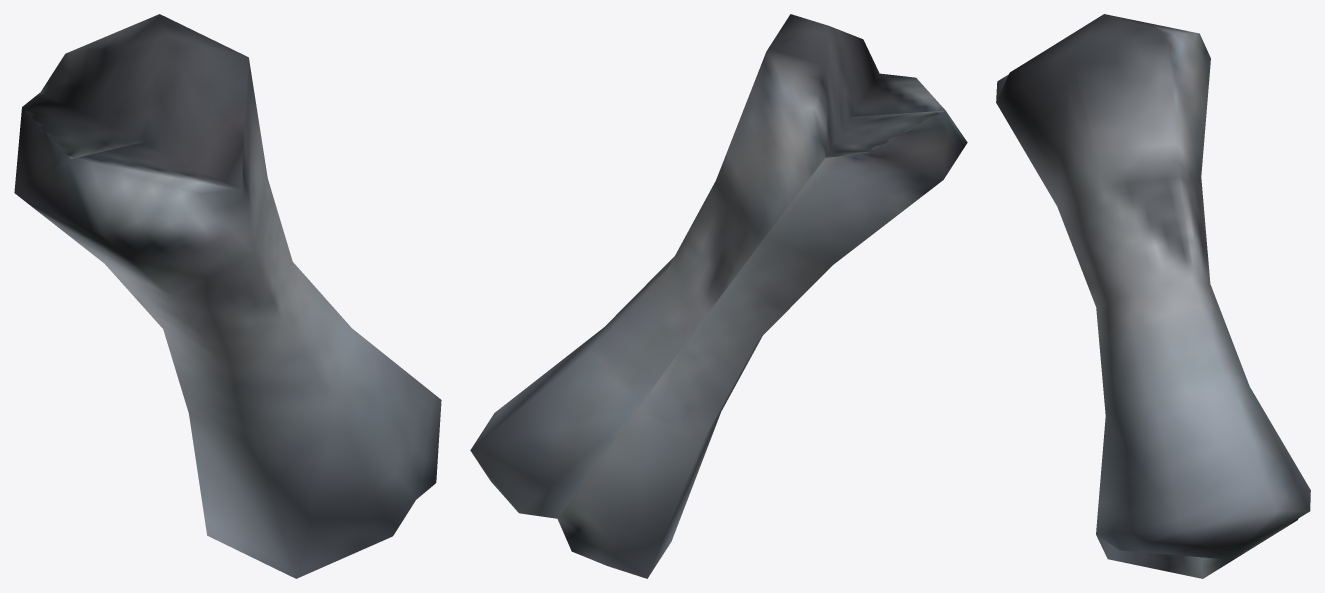
File: bone.FBX
The picture shows the model from 3 angles, left to right: view 1: azimuth 30°, elevation 25°; view 2: azimuth 150°, elevation 25°; view 3: azimuth 270°, elevation 25°; orthographic projection. The views are drawn at different scales.
Visible parts, largest first — view 1: cabeza002; view 2: cabeza002; view 3: cabeza002.
Part boxes in pixels (<box>): cabeza002: <box>14,14,441,578</box>; cabeza002: <box>470,14,967,578</box>; cabeza002: <box>996,14,1310,578</box>.
Size of the model in its own units: 193 by 239 by 139.
